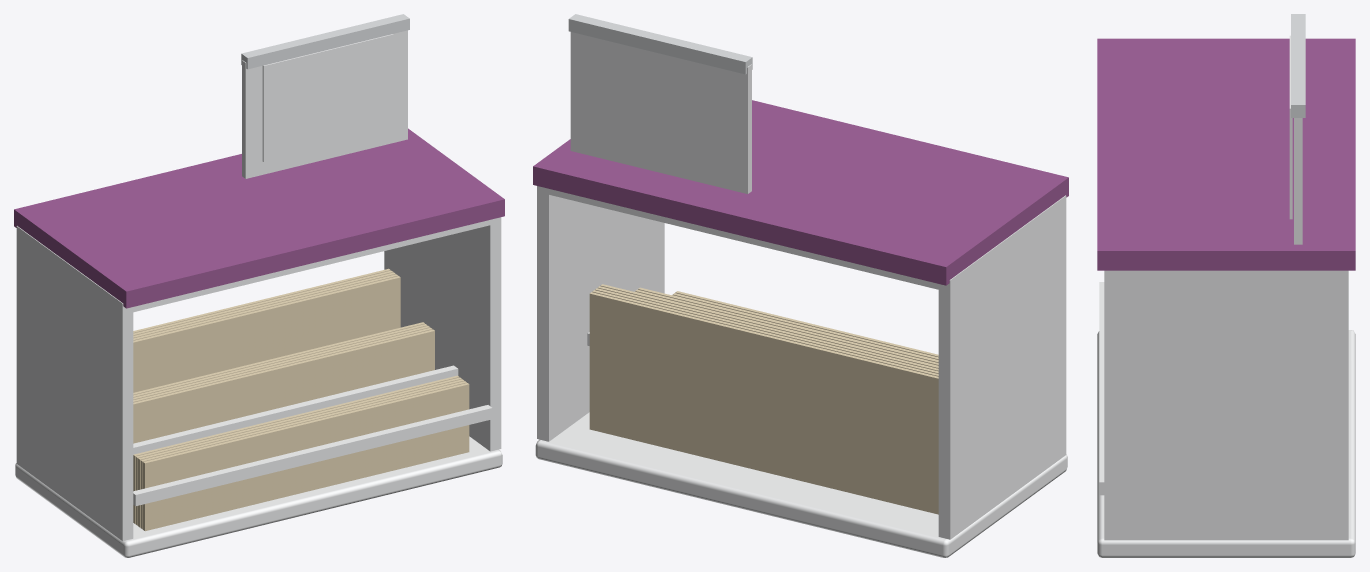
Rendered from pharmacy-and-high-street-chemist-bagging-station-0dc94e52__37545.glb.
The picture shows the model from 3 angles, left to right: view 1: azimuth 30°, elevation 25°; view 2: azimuth 150°, elevation 25°; view 3: azimuth 270°, elevation 25°; orthographic projection. The views are drawn at different scales.
Parts seen in each view (by area): view 1: bagging-station; view 2: bagging-station; view 3: bagging-station.
Boxes of the visible parts, box(x1,y1,x2,y2) form: bagging-station: box(14, 14, 504, 557); bagging-station: box(533, 14, 1068, 557); bagging-station: box(1097, 14, 1355, 557).
Size of the model in its own units: 0.7012 by 0.69 by 0.3601.
